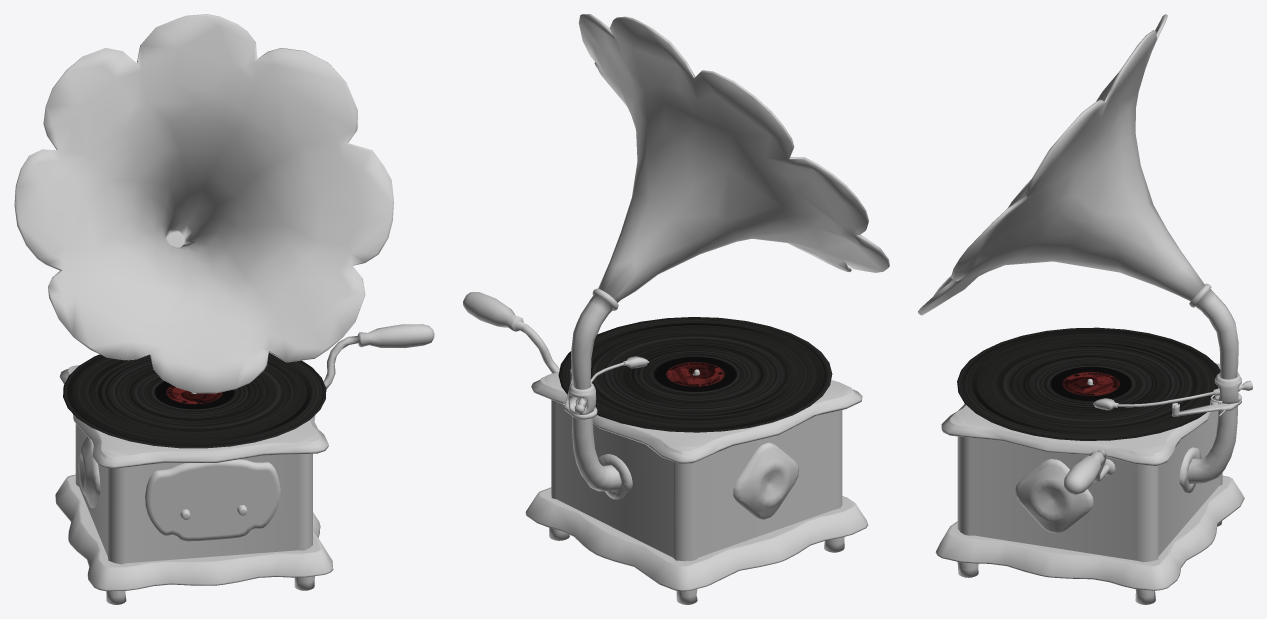
Rendered from RecordpLayer_vintage_solo_scene_GOBACK_TO_PREVIOUS_TEST.fbx.
3 views of the same model, side by side, from view 1: azimuth 30°, elevation 25°; view 2: azimuth 150°, elevation 25°; view 3: azimuth 270°, elevation 25° (orthographic). The views are drawn at different scales.
Visible parts, largest first — view 1: Wooden_bot_lp.002, vinyl_lp; view 2: Wooden_bot_lp.002, vinyl_lp; view 3: Wooden_bot_lp.002, vinyl_lp.
Boxes of the visible parts, bbox=[...] form: Wooden_bot_lp.002: bbox=[14, 14, 434, 604]; vinyl_lp: bbox=[63, 352, 326, 448]; Wooden_bot_lp.002: bbox=[463, 14, 889, 604]; vinyl_lp: bbox=[558, 317, 832, 432]; Wooden_bot_lp.002: bbox=[918, 14, 1252, 604]; vinyl_lp: bbox=[957, 327, 1220, 440].
Bounding box in the file's own units: 98.02 × 120 × 69.62.
